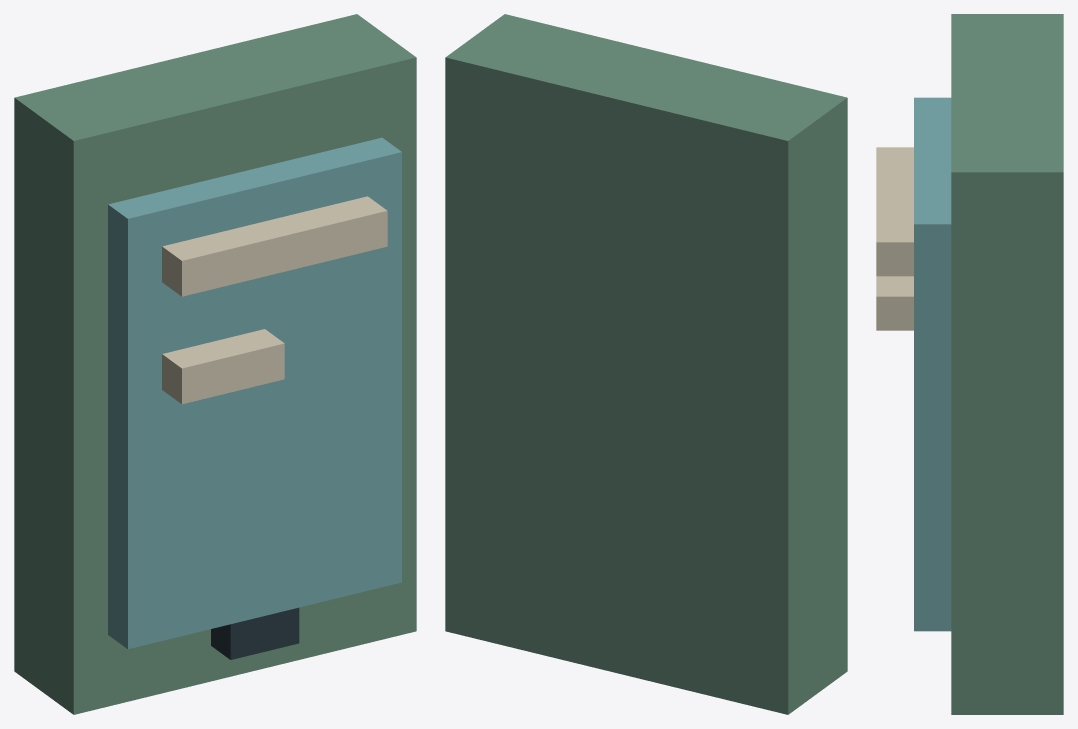
Rendered from finance-13.glb.
The picture shows the model from 3 angles, left to right: view 1: azimuth 30°, elevation 25°; view 2: azimuth 150°, elevation 25°; view 3: azimuth 270°, elevation 25°; orthographic projection. The views are drawn at different scales.
Parts seen in each view (by area): view 1: Desk telephone; view 2: Desk telephone; view 3: Desk telephone.
Part boxes in pixels (x1=…): Desk telephone: x1=14, y1=14, x2=416, y2=714; Desk telephone: x1=445, y1=14, x2=847, y2=714; Desk telephone: x1=876, y1=14, x2=1063, y2=714.
Bounding box in the file's own units: 0.8 × 1.28 × 0.4.
